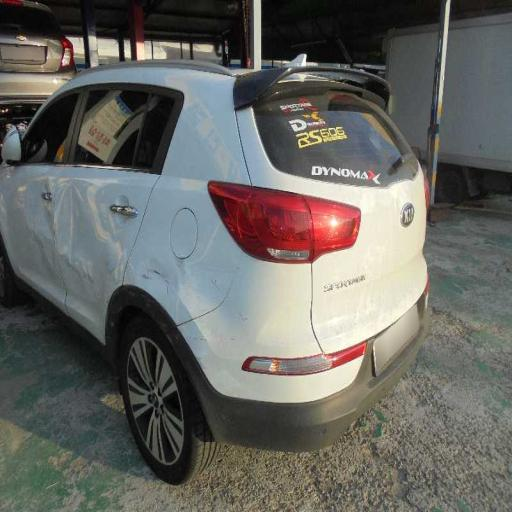dent: (7, 166, 160, 356)
scratch: (148, 226, 245, 330), (305, 285, 407, 363)
